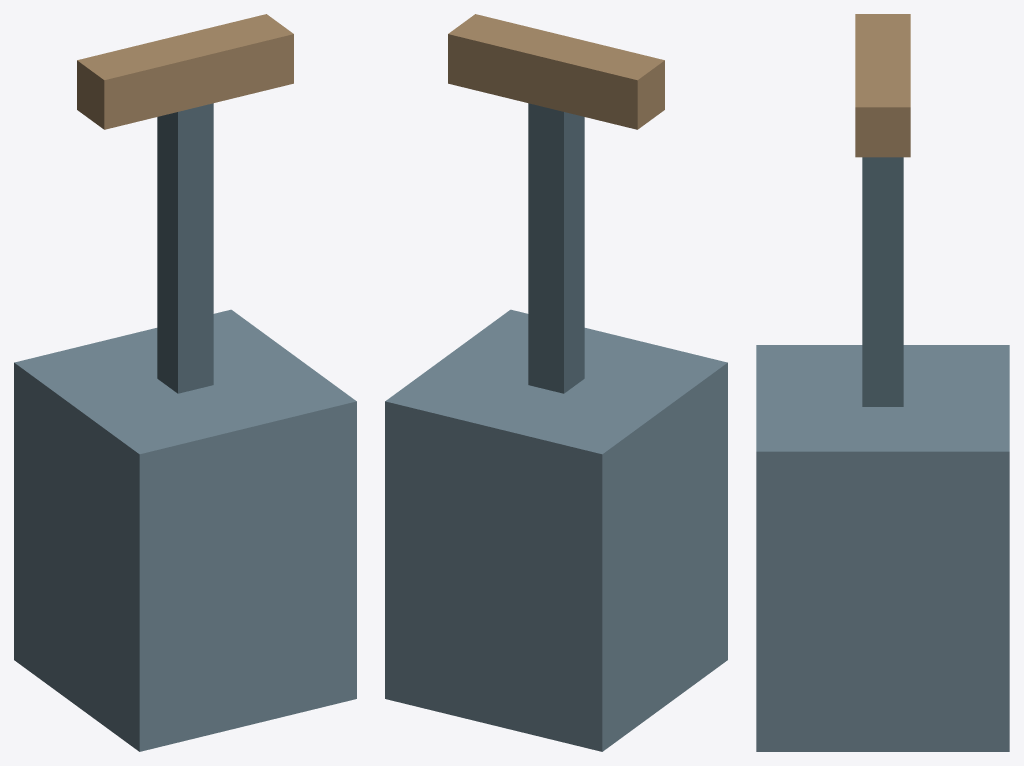
The model's file is puzzle_lever.glb.
3 views of the same model, side by side, from view 1: azimuth 30°, elevation 25°; view 2: azimuth 150°, elevation 25°; view 3: azimuth 270°, elevation 25° (orthographic).
Visible parts, largest first — view 1: Pedestal, Grip, Shaft; view 2: Pedestal, Grip, Shaft; view 3: Pedestal, Shaft, Grip.
Boxes of the visible parts, bbox=[...] form: Pedestal: bbox=[14, 309, 356, 751]; Grip: bbox=[77, 14, 293, 129]; Shaft: bbox=[157, 103, 213, 393]; Pedestal: bbox=[385, 309, 727, 751]; Grip: bbox=[448, 14, 664, 129]; Shaft: bbox=[528, 103, 584, 393]; Pedestal: bbox=[756, 345, 1009, 751]; Shaft: bbox=[862, 157, 903, 406]; Grip: bbox=[855, 14, 910, 157].
Bounding box in the file's own units: 0.55 × 1.53 × 0.55.
